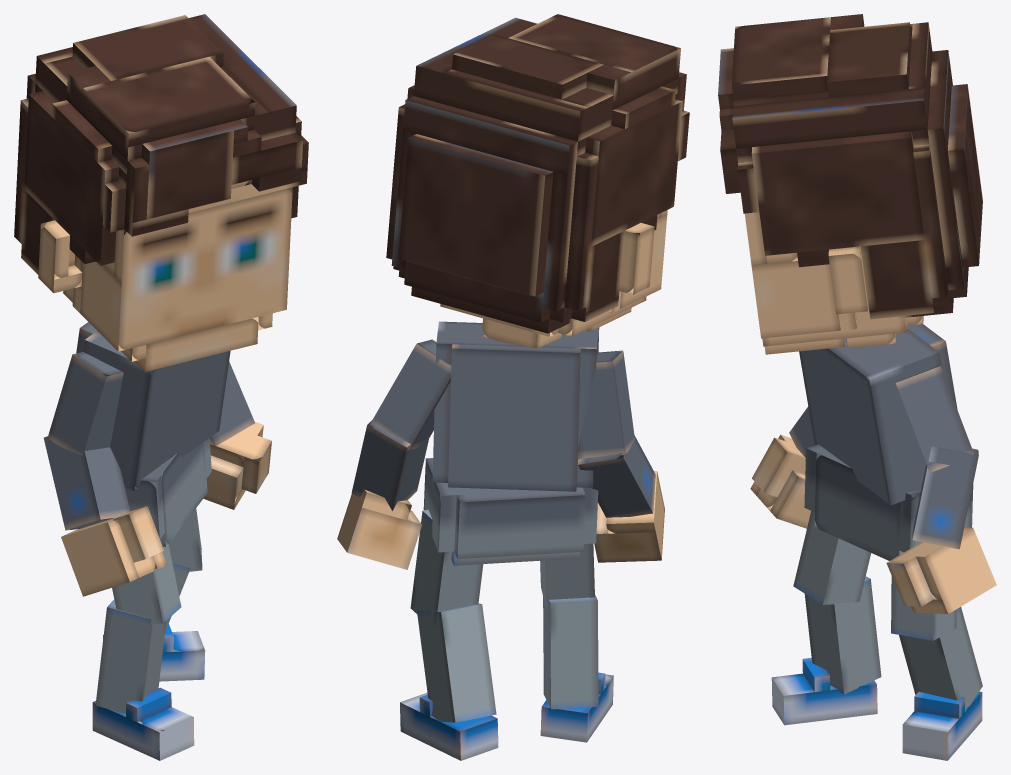
The model's file is Hum.obj.
3 renders of one model, left to right at view 1: azimuth 30°, elevation 25°; view 2: azimuth 150°, elevation 25°; view 3: azimuth 270°, elevation 25°, orthographic.
Parts seen in each view (by area): view 1: Model; view 2: Model; view 3: Model.
Part boxes in pixels (bbox=[...]): Model: bbox=[14, 14, 308, 760]; Model: bbox=[337, 14, 689, 760]; Model: bbox=[718, 14, 996, 760].
Bounding box in the file's own units: 18.77 × 46.53 × 17.36.
Materials: 1 (1 with a texture image).
